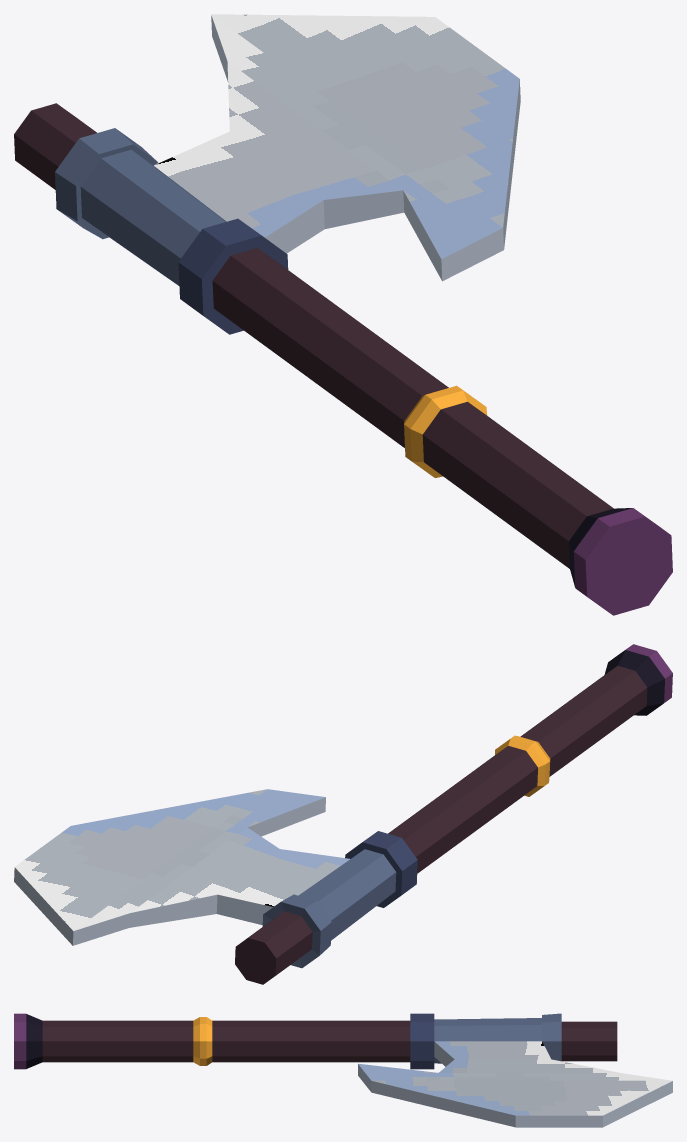
File: axe.glb
3 renders of one model, top to bottom at view 1: azimuth 30°, elevation 25°; view 2: azimuth 150°, elevation 25°; view 3: azimuth 270°, elevation 25°, orthographic. The views are drawn at different scales.
Visible parts, largest first — view 1: Axe; view 2: Axe; view 3: Axe.
Boxes of the visible parts, <box> form: Axe: <box>14,14,672,615</box>; Axe: <box>14,644,672,984</box>; Axe: <box>14,1013,672,1127</box>.
Bounding box in the file's own units: 0.6786 × 0.142 × 1.78.
Materials: 1 (1 with a texture image).
